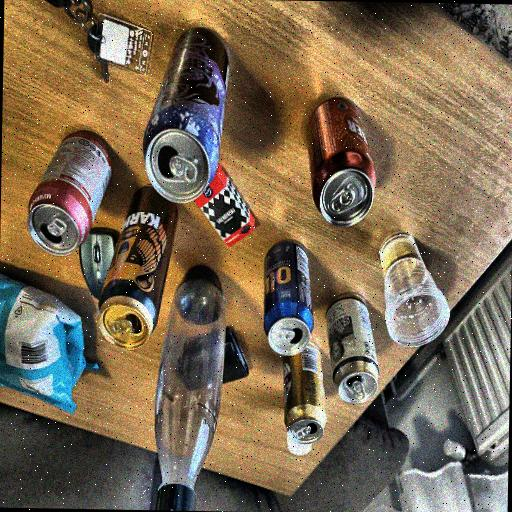A_LeCoq: (276, 348, 332, 445)
coop_larger: (298, 96, 378, 230)
karhu: (94, 193, 186, 348)
koff: (24, 128, 116, 254)
koti: (262, 246, 312, 352)
sandels: (320, 296, 383, 406)
